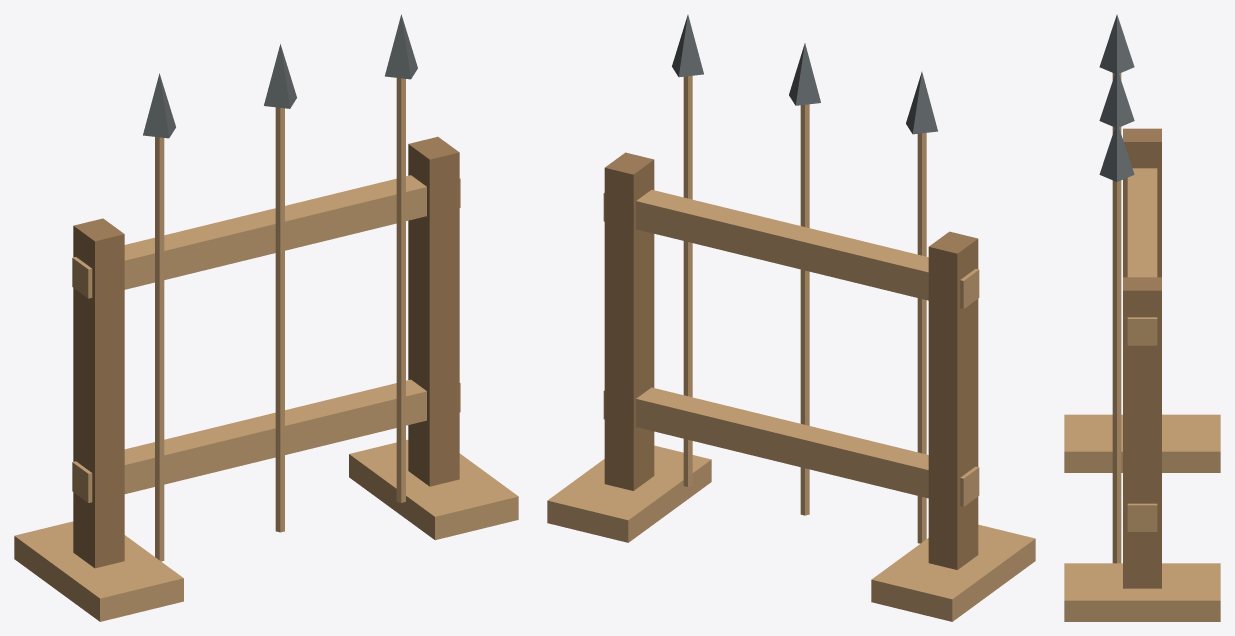
File: spear-rack.glb
The picture shows the model from 3 angles, left to right: view 1: azimuth 30°, elevation 25°; view 2: azimuth 150°, elevation 25°; view 3: azimuth 270°, elevation 25°; orthographic projection. The views are drawn at different scales.
Parts seen in each view (by area): view 1: spear-rack; view 2: spear-rack; view 3: spear-rack.
Boxes of the visible parts, left/top/right/bottom form: spear-rack: left=14, top=14, right=518, bottom=621; spear-rack: left=547, top=15, right=1035, bottom=621; spear-rack: left=1064, top=14, right=1220, bottom=621.
Size of the model in its own units: 2.25 by 2.6 by 0.8.
